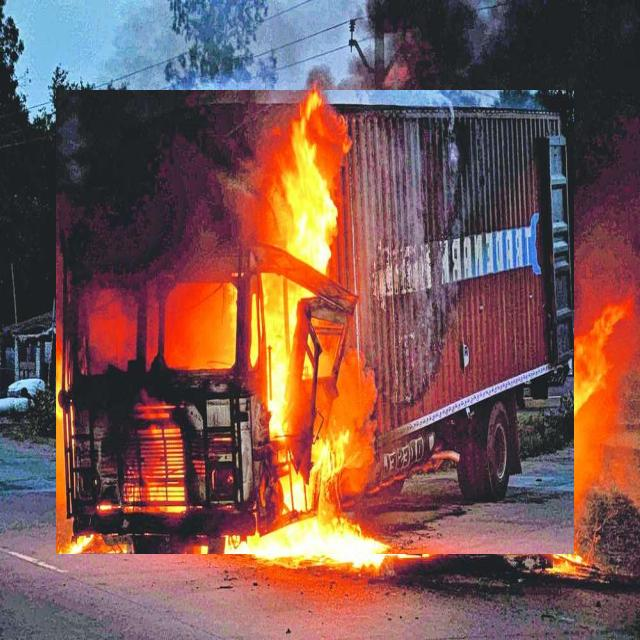accident: (56, 91, 574, 554)
